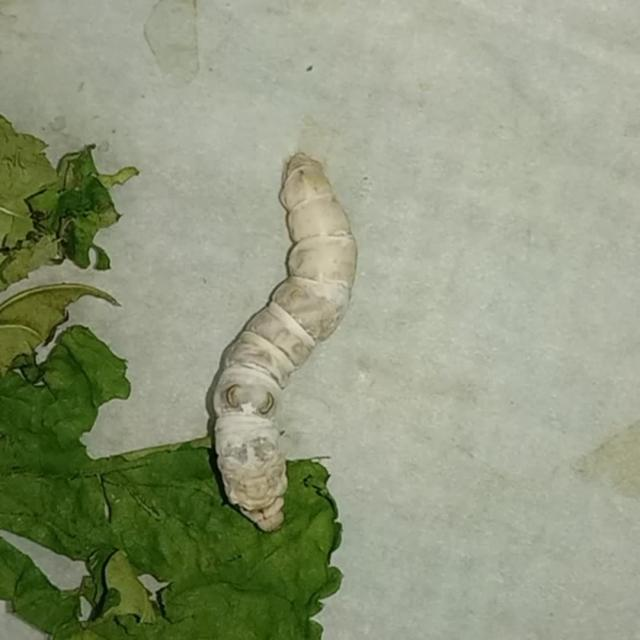Grasserie: (157, 120, 462, 576)
